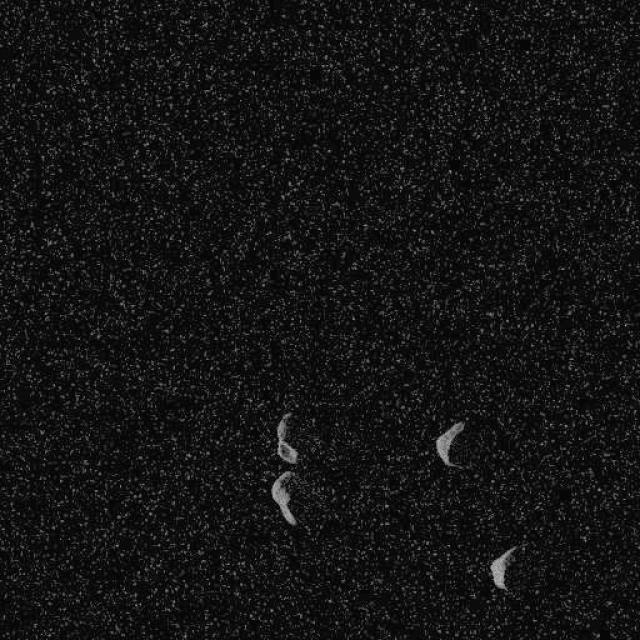D2: (270, 469, 299, 526), (434, 419, 466, 469), (488, 544, 518, 591), (275, 410, 299, 464)
